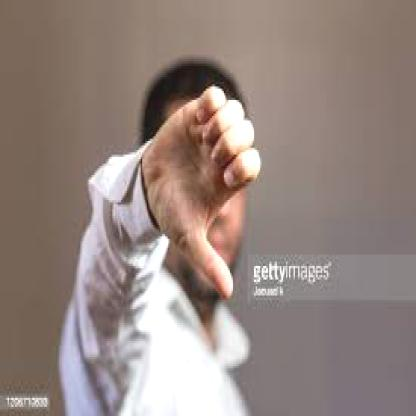Thumbs Down: (163, 67, 257, 312)
